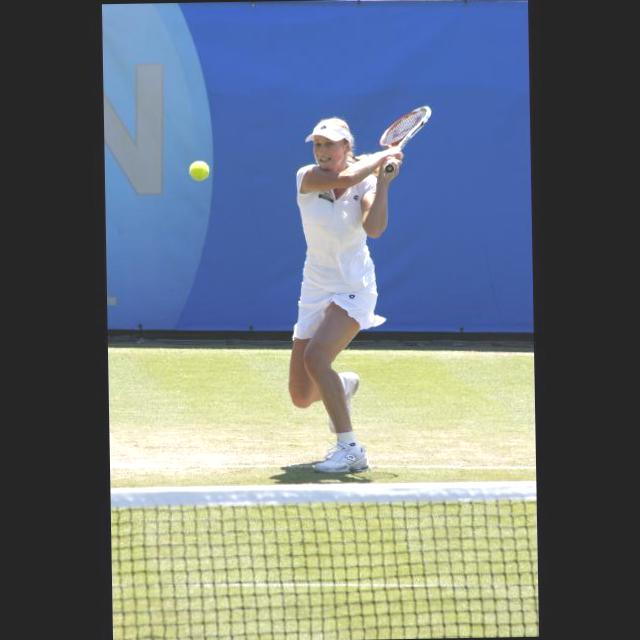Tennis Ball: (184, 158, 212, 183)
